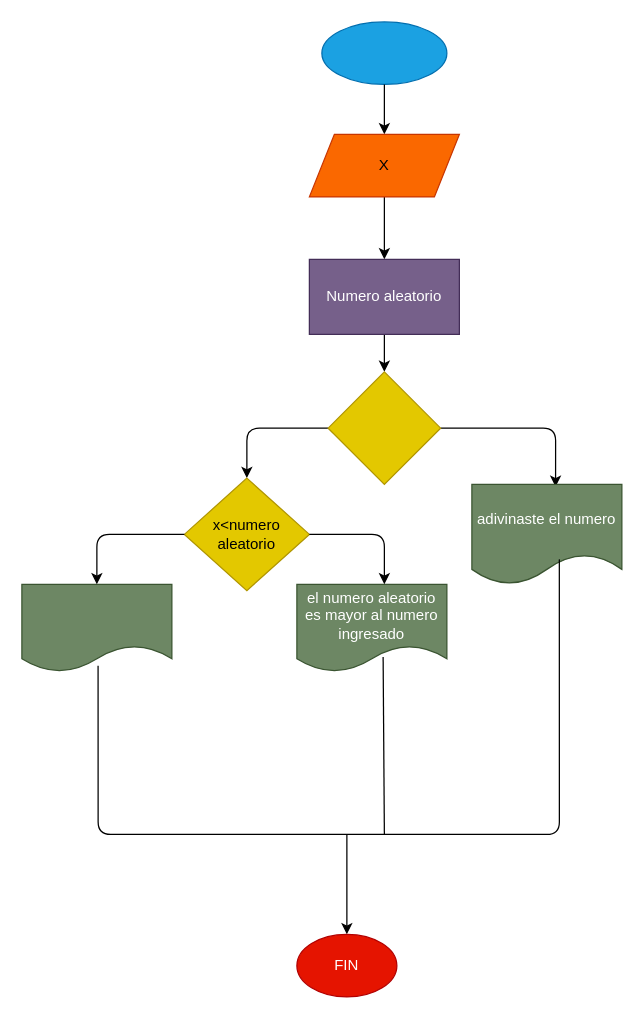
Some shapes in this 644 by 1019 pixel diagram are drawn without their labels. The box of each missing label's shape, as (x1, y1, x2, y2) in pixels:
el numero aleatorio es menor al numero ingresado: (21, 583, 172, 672)
INICIO: (321, 21, 447, 84)
x==nuemro aleatorio: (327, 371, 441, 484)
